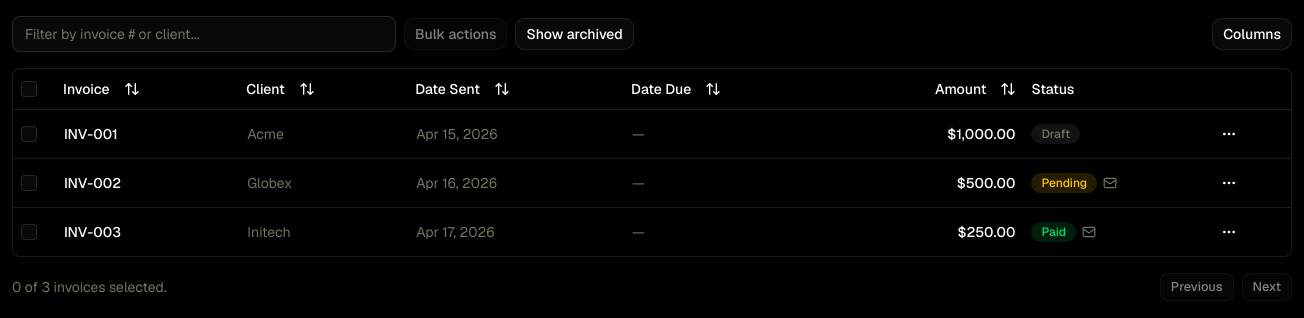
InvoiceDataTable — clear selected › renders the 'Clear selected' button once a row is selected
The image size is (1304, 318).
What coordinates should you click on to do the following:
click the checkbox named "select row" next to "INV-001"
I would click on:
 (29, 134)
Its box is [21,126,37,142].
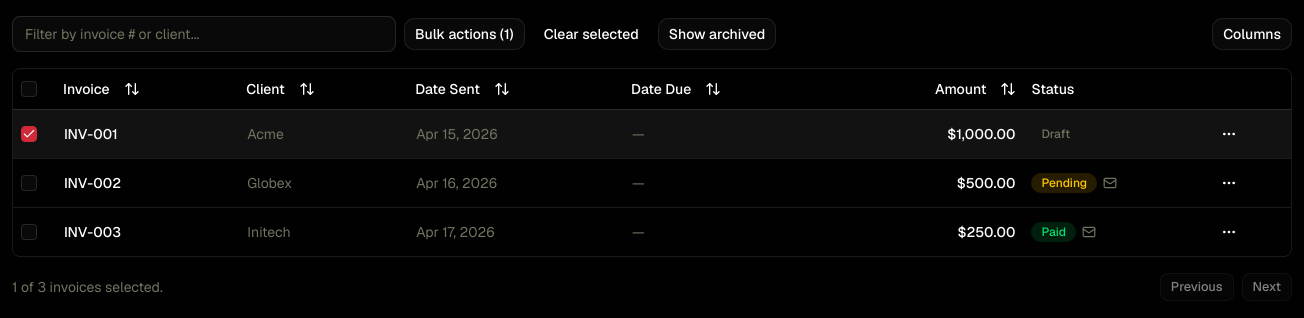
Check: the button "Clear selected" is shown, box [533,18,650,50]
